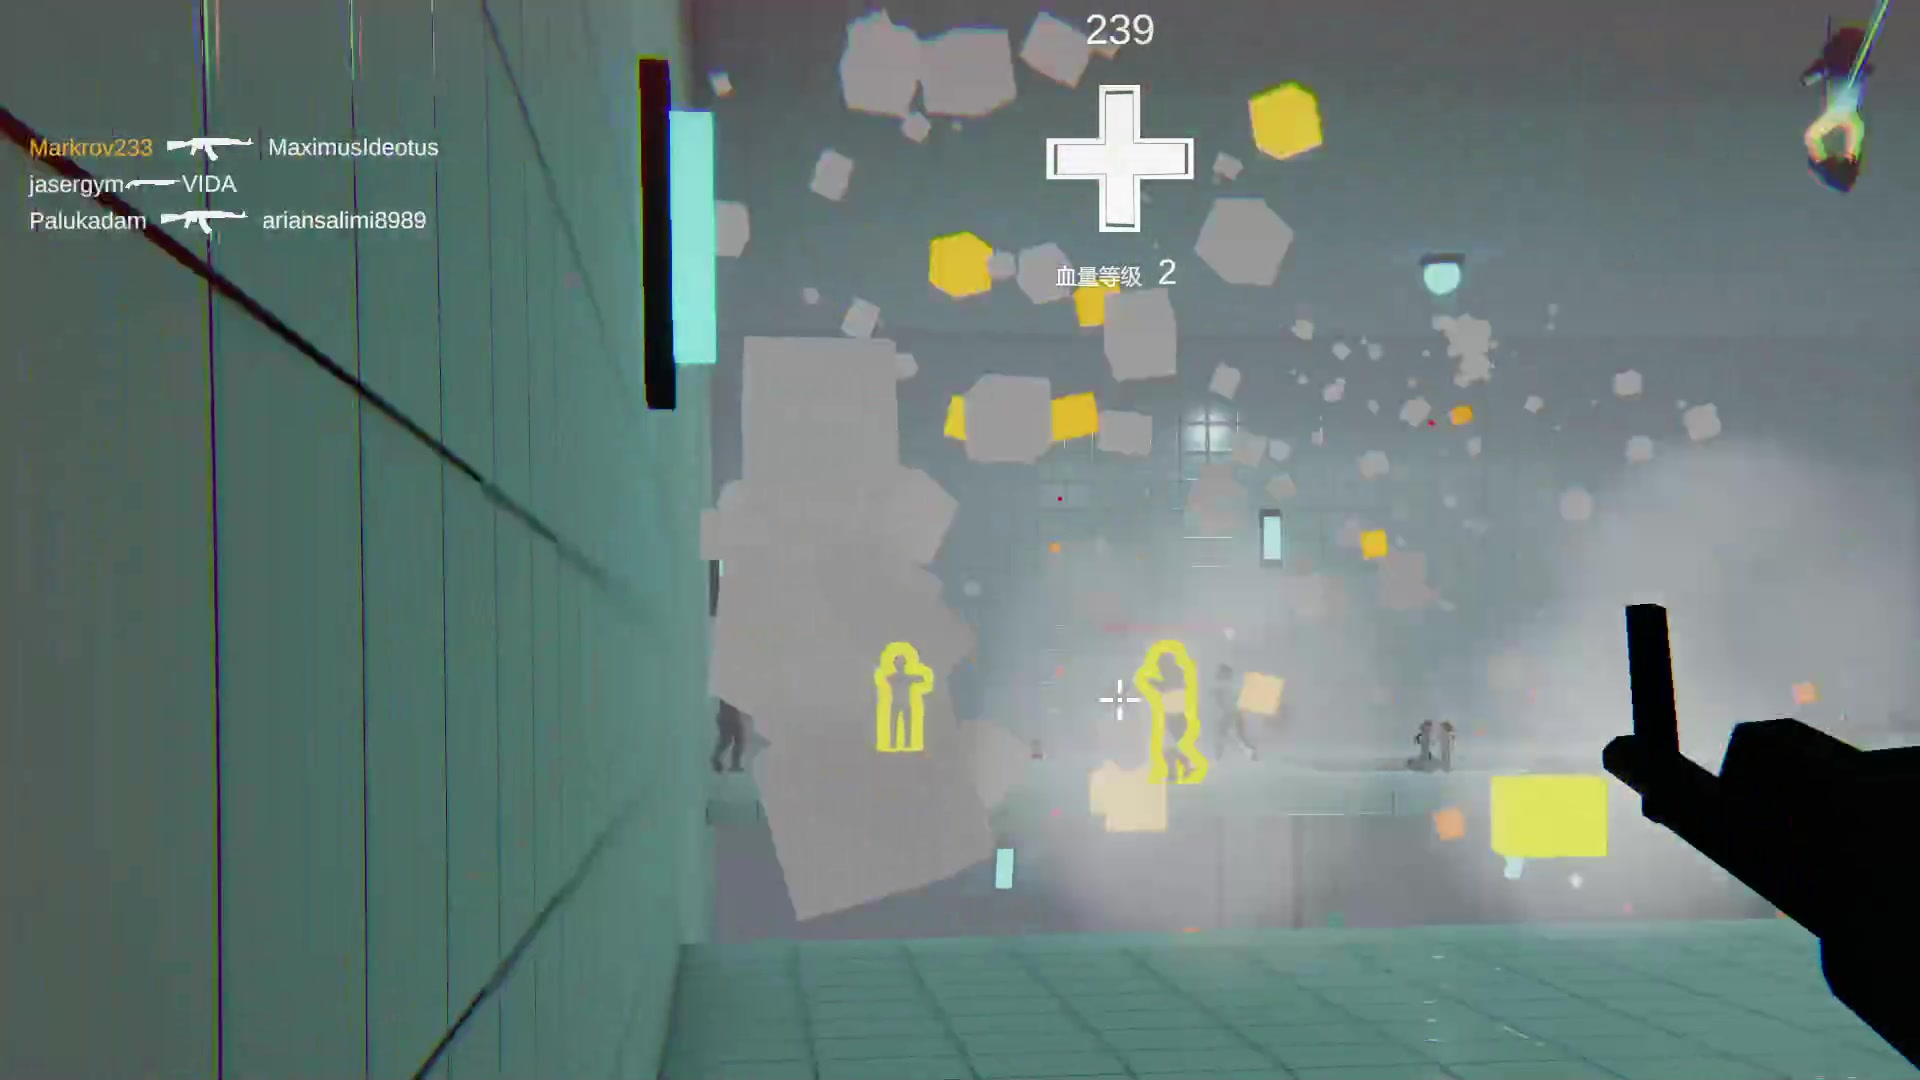human: (1797, 28, 1880, 208), (1148, 607, 1193, 801), (873, 633, 936, 763), (1199, 647, 1254, 772)
